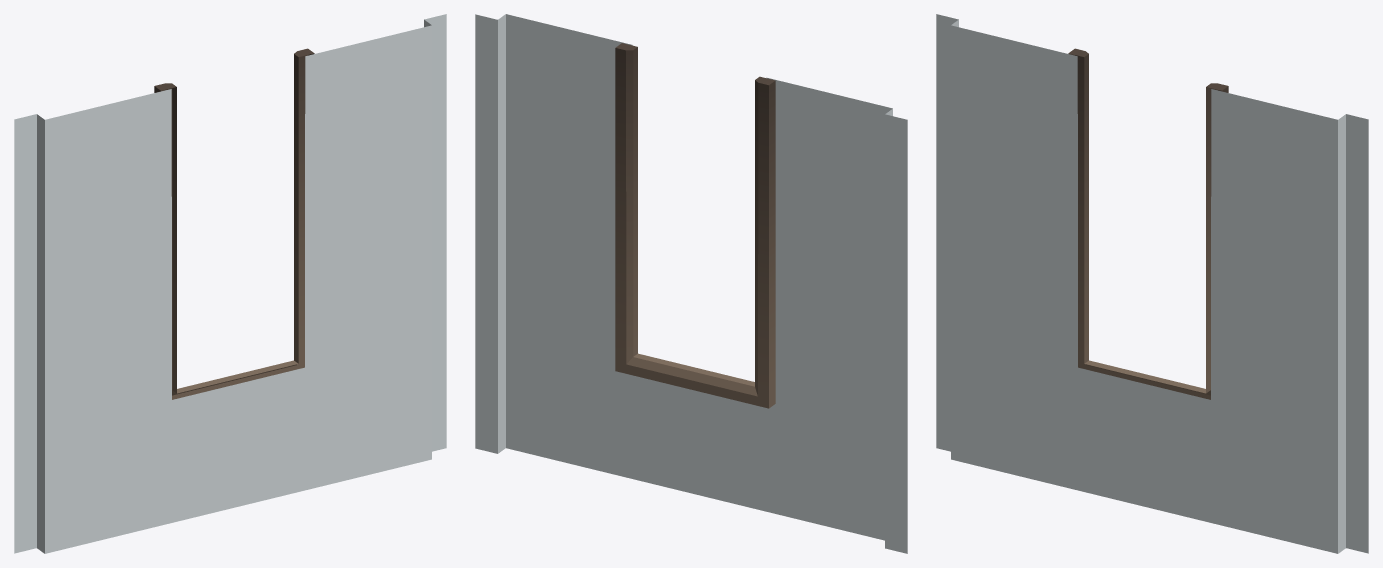
File: 4m_dooupsidedown.fbx
3 views of the same model, side by side, from view 1: azimuth 30°, elevation 25°; view 2: azimuth 150°, elevation 25°; view 3: azimuth 330°, elevation 25° (orthographic).
Parts seen in each view (by area): view 1: 4m_doorupsidedown; view 2: 4m_doorupsidedown; view 3: 4m_doorupsidedown.
Boxes of the visible parts, x1,y1,x2,y2 form: 4m_doorupsidedown: [14, 14, 446, 553]; 4m_doorupsidedown: [475, 14, 907, 553]; 4m_doorupsidedown: [936, 14, 1368, 553].
Size of the model in its own units: 313 by 300 by 10.
